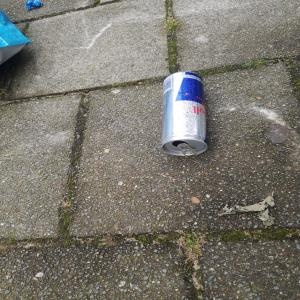Can: (158, 70, 215, 161)
